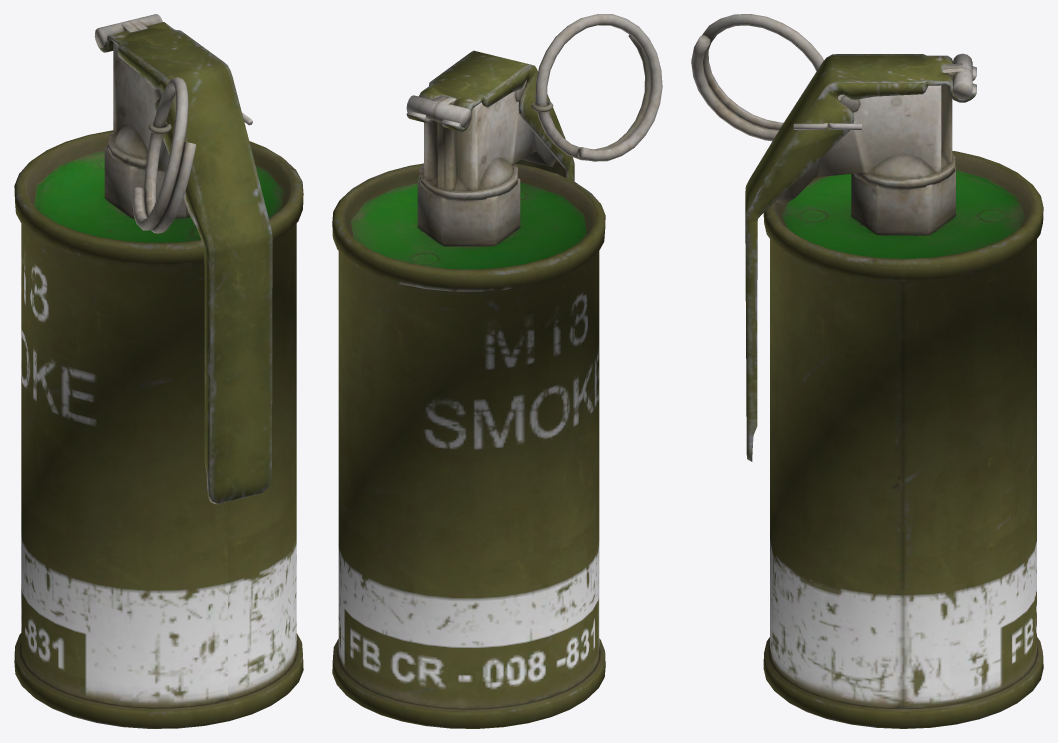
File: smokegrenade.obj
3 views of the same model, side by side, from view 1: azimuth 30°, elevation 25°; view 2: azimuth 150°, elevation 25°; view 3: azimuth 270°, elevation 25° (orthographic). The views are drawn at different scales.
Visible parts, largest first — view 1: M18_Smoke_M18_Smoke_0; view 2: M18_Smoke_M18_Smoke_0; view 3: M18_Smoke_M18_Smoke_0.
Part boxes in pixels (x1,y1,x2,y2): M18_Smoke_M18_Smoke_0: (14,14,303,728); M18_Smoke_M18_Smoke_0: (332,14,662,728); M18_Smoke_M18_Smoke_0: (691,14,1043,728).
Size of the model in its own units: 6.14 by 15.28 by 7.73.
1 material, 1 textured.
